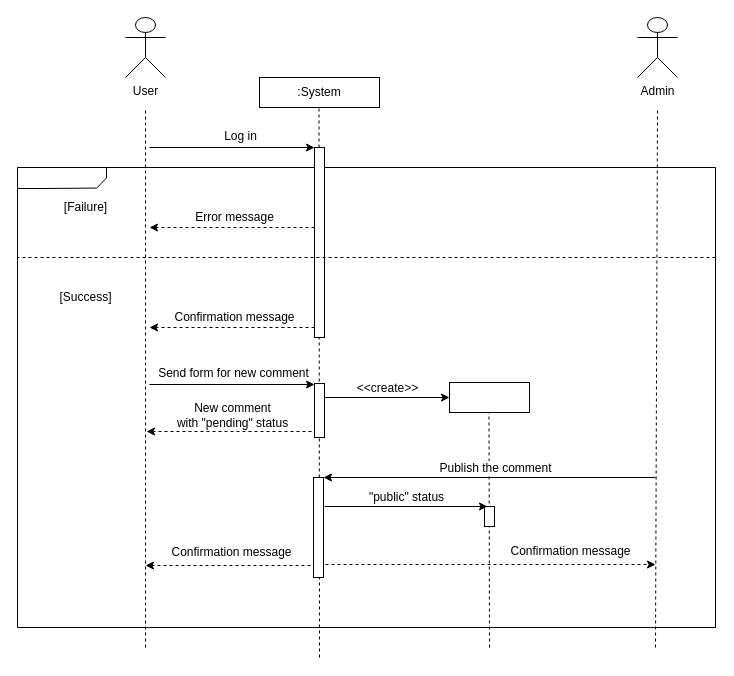
Image size: 734x676. Some labels were removed from this diagram. The shapes that lost their labels are listed below. From the top down, each one's centre as x and y in pixels, then its label:
the point at 61,177: alt Log in
the point at 489,397: :Comment
